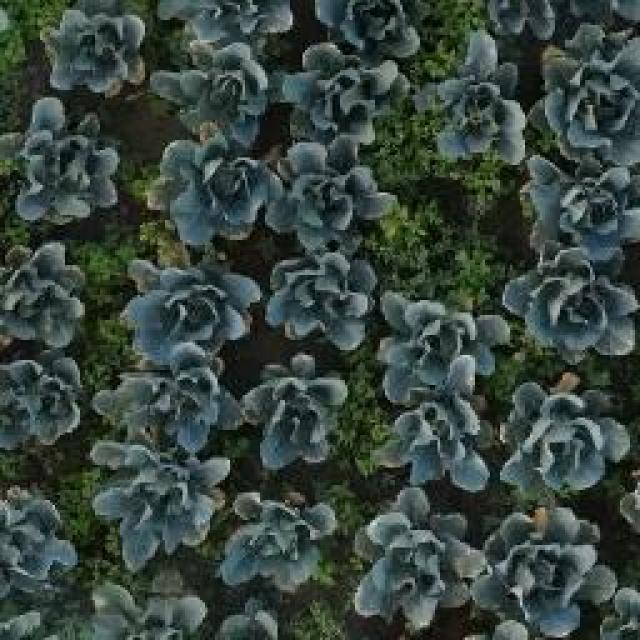cabbage: (470, 510, 606, 634), (357, 494, 481, 625), (118, 245, 253, 359), (93, 442, 225, 556), (501, 383, 629, 500), (536, 22, 640, 164), (377, 288, 508, 397), (96, 351, 239, 450), (148, 132, 274, 244), (421, 38, 527, 168), (216, 488, 338, 597), (243, 347, 355, 465), (7, 106, 118, 222), (158, 36, 280, 140), (264, 248, 376, 353), (282, 45, 411, 136), (270, 138, 377, 247), (517, 164, 640, 257), (382, 392, 488, 492), (40, 3, 146, 101), (0, 238, 91, 346), (527, 266, 631, 355), (0, 348, 85, 448), (0, 484, 80, 586), (314, 1, 423, 62)
